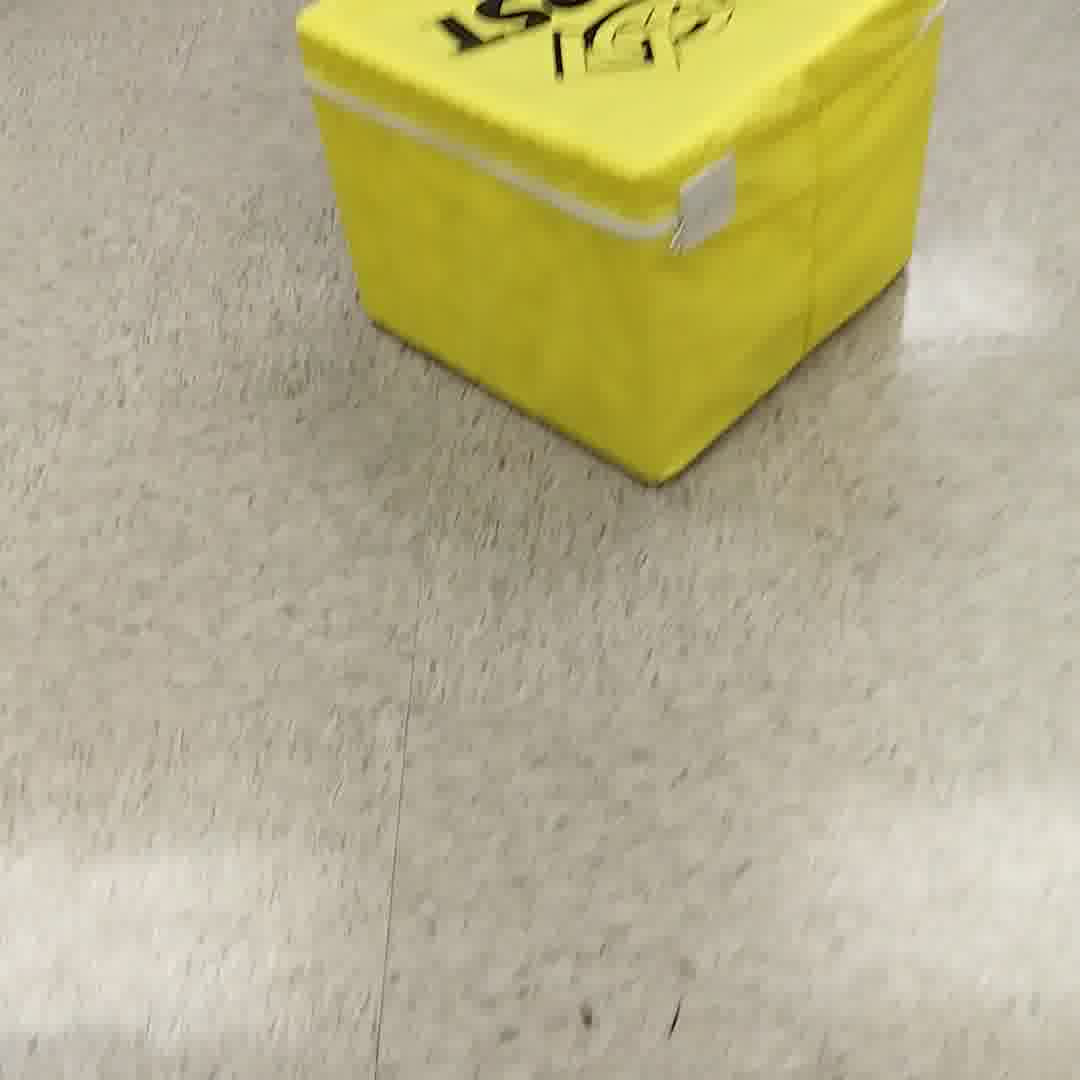box: (295, 1, 932, 512)
